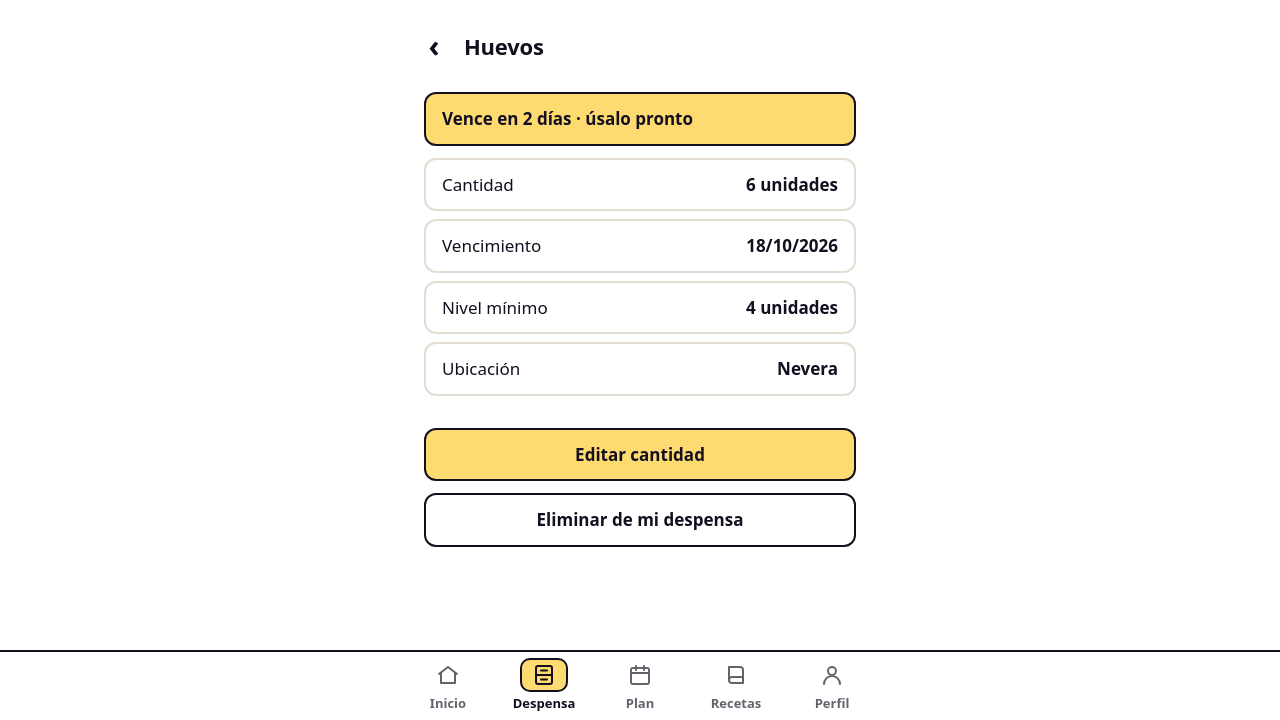
it: Despensa › editar guarda la cantidad nueva
Click the button "Editar cantidad" at {"x": 640, "y": 454}, box [424,428,856,481]
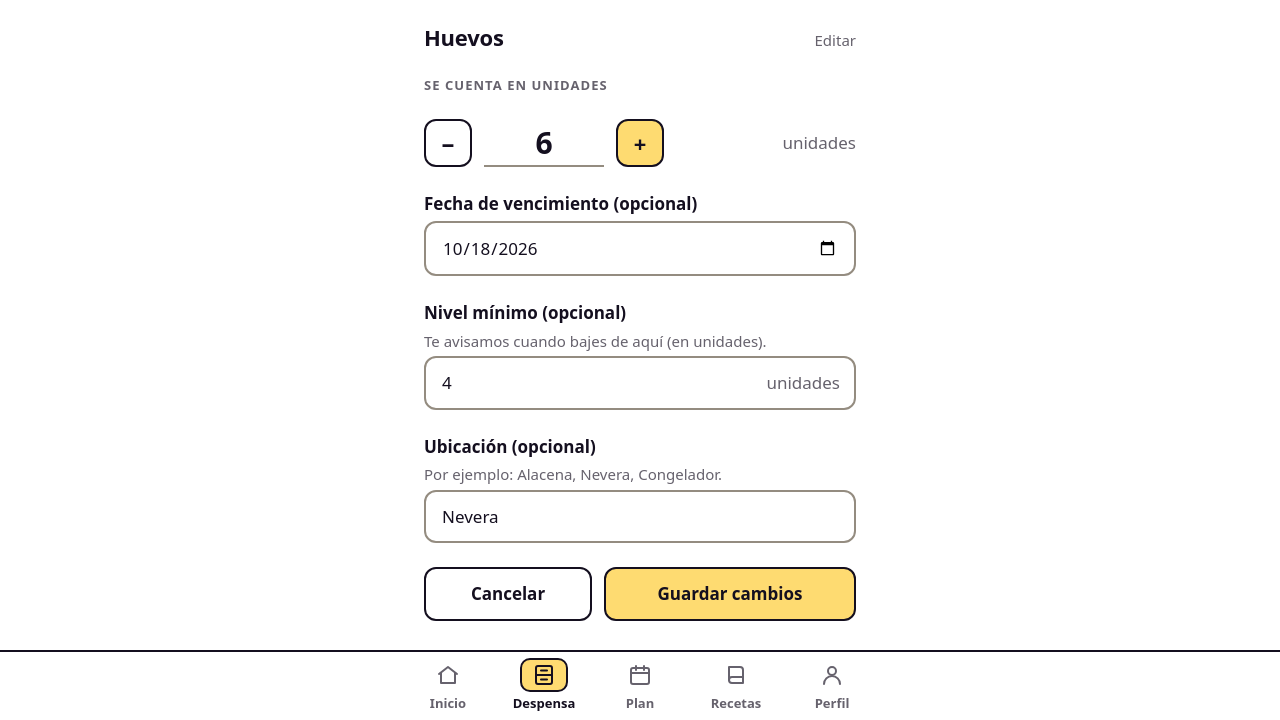
Click the button named "Quitar uno" at {"x": 448, "y": 143}, box [424,119,472,167]
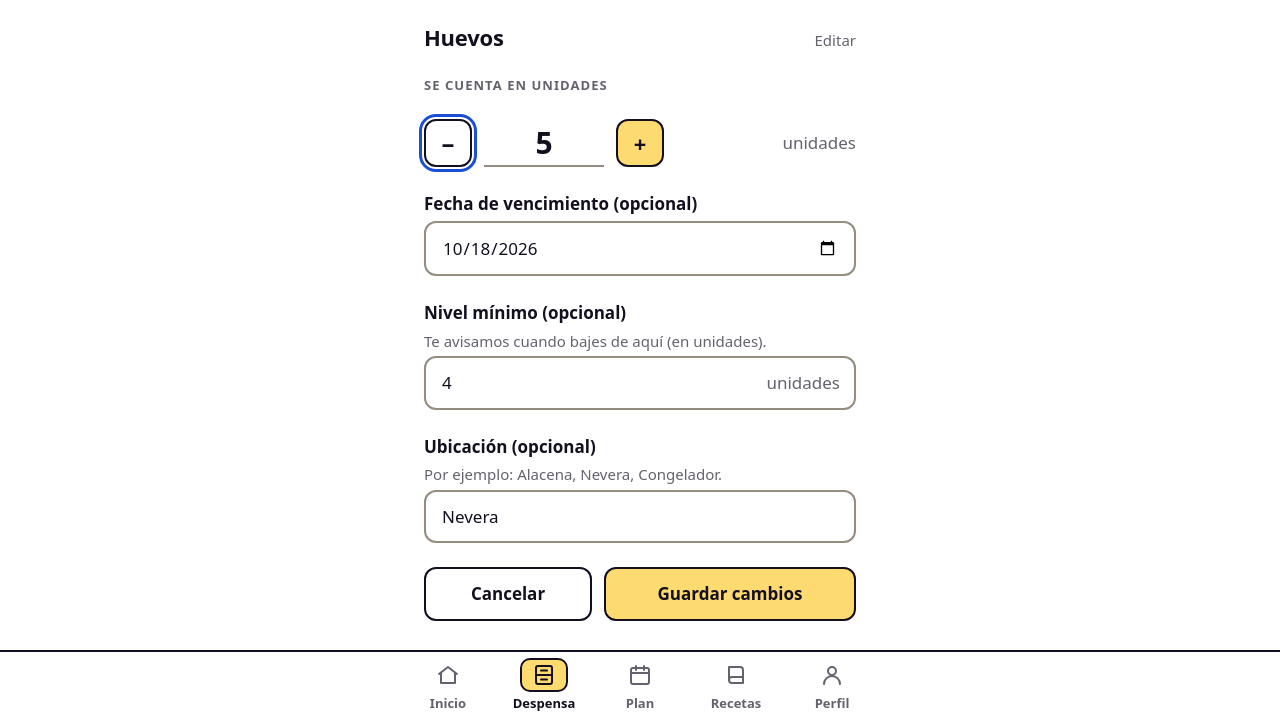
Click the button "Guardar cambios" at {"x": 730, "y": 594}, box [604,567,856,620]
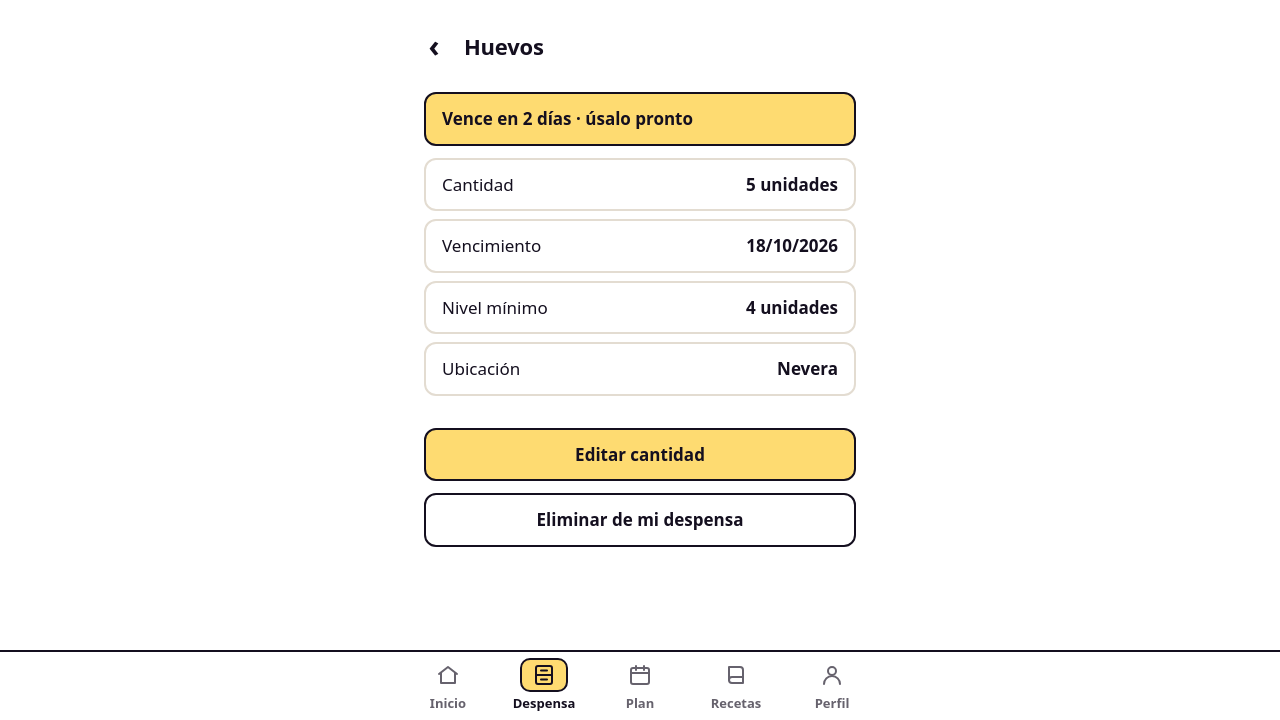
Expected: the text "5 unidades" is shown, [746,172,838,197]
